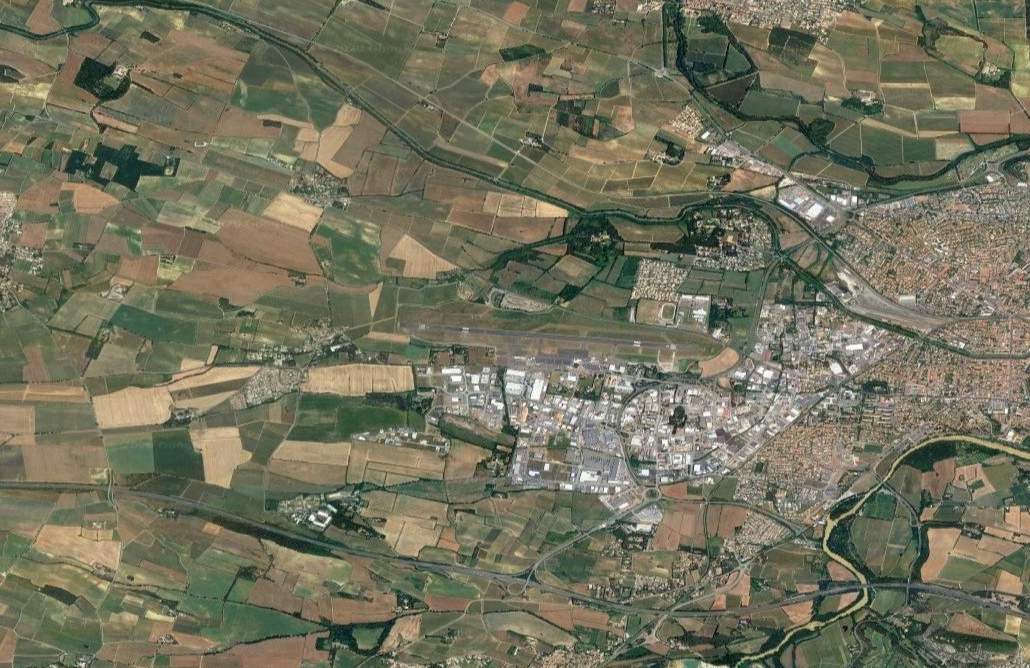airport: (394, 312, 707, 370)
motorway: (938, 582, 1030, 619), (190, 500, 283, 533), (279, 530, 384, 558), (563, 590, 655, 618), (80, 483, 190, 506), (757, 586, 844, 613), (383, 553, 479, 576), (476, 570, 564, 594), (655, 604, 758, 618), (844, 583, 940, 593), (1, 481, 79, 491)
